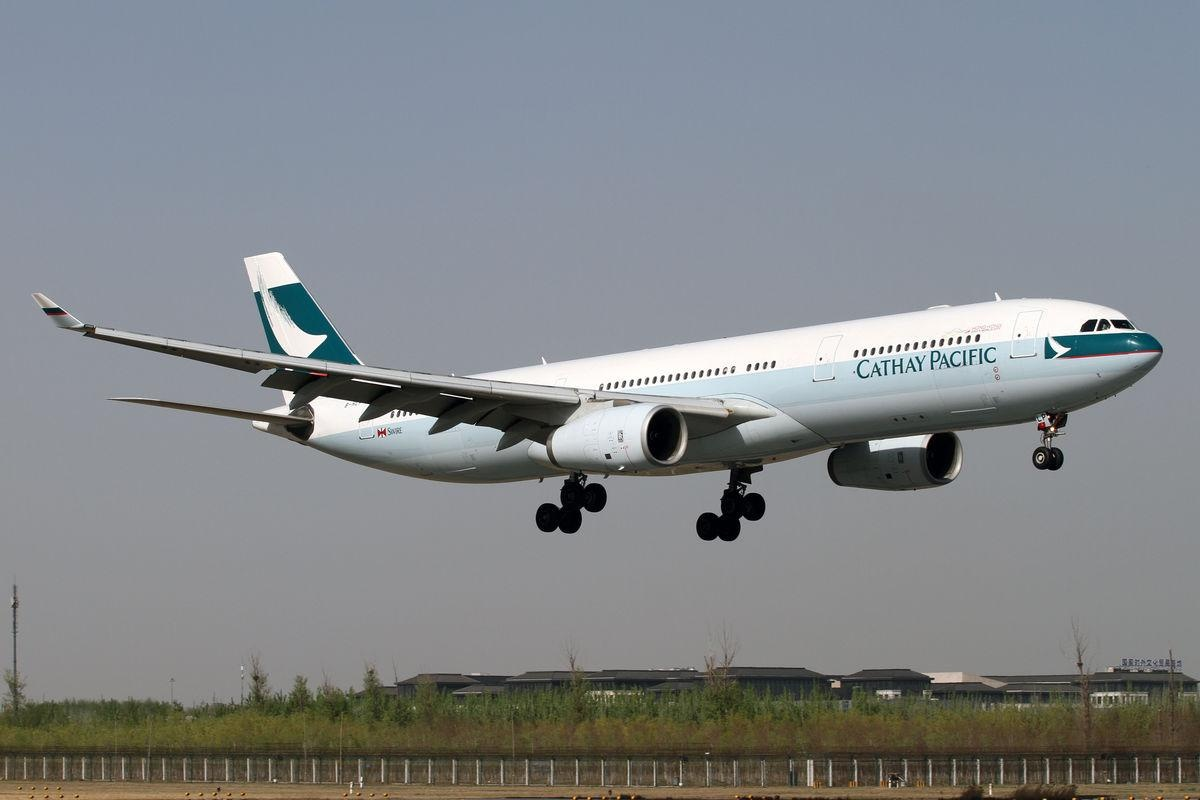airplane: (32, 226, 1163, 534)
